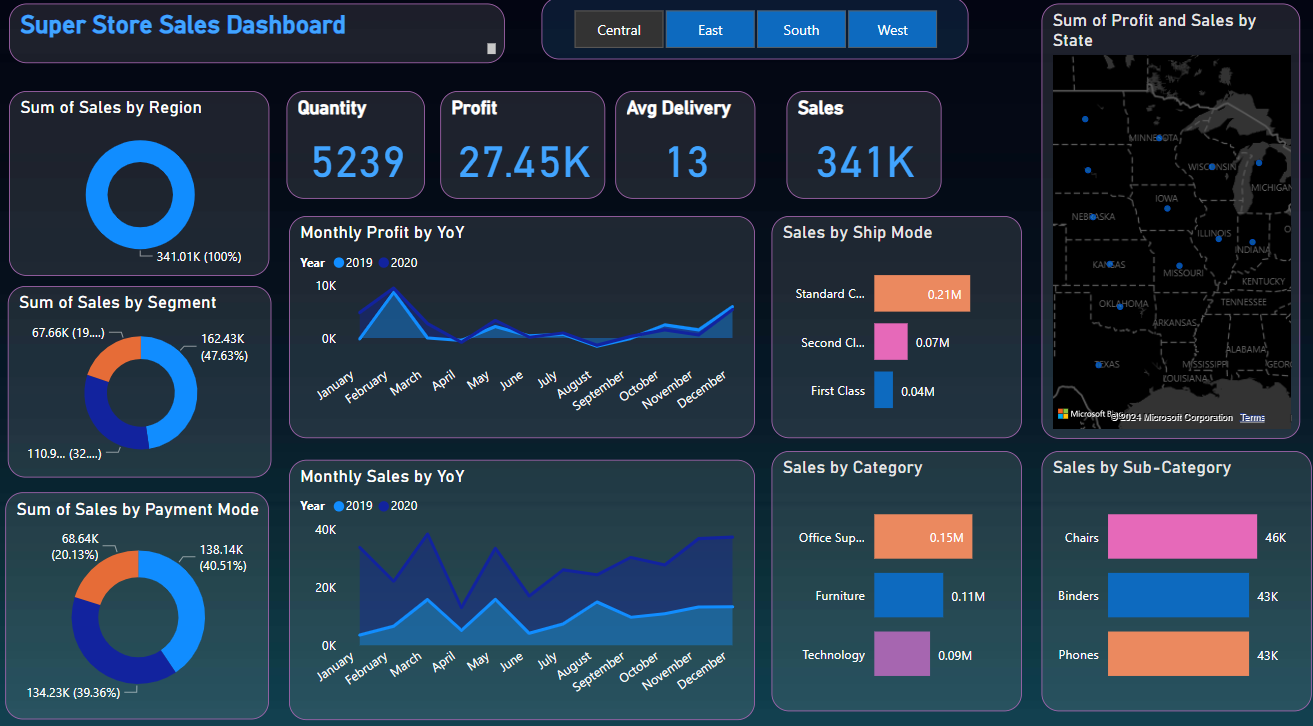

The dashboard page shown, as its layout file describes it:
{"tool":"powerbi","page":{"name":"Page 1","canvas":[1280,720],"ordinal":0},"visuals":[{"type":"clusteredBarChart","title":"Sales by Category","fields":{"Category":["SuperStore_Sales_Dataset.Category"],"Y":["Sum(SuperStore_Sales_Dataset.Sales)"]},"box":[750.2,448.6,241.2,250.9],"z":0},{"type":"clusteredBarChart","title":"Sales by Sub-Category","fields":{"Category":["SuperStore_Sales_Dataset.Sub-Category"],"Y":["Sum(SuperStore_Sales_Dataset.Sales)"]},"box":[1010.7,448.6,260.5,250.9],"z":1000},{"type":"clusteredBarChart","title":"Sales by Ship Mode","fields":{"Category":["SuperStore_Sales_Dataset.Ship Mode"],"Y":["Sum(SuperStore_Sales_Dataset.Sales)"]},"box":[750.2,221.9,241.2,214.7],"z":2000},{"type":"stackedAreaChart","title":"Monthly Sales by YoY","fields":{"Y":["Sum(SuperStore_Sales_Dataset.Sales)"],"Category":["SuperStore_Sales_Dataset.Order Date.Variation.Date Hierarchy.Month","SuperStore_Sales_Dataset.Order Date.Variation.Date Hierarchy.Day"],"Series":["SuperStore_Sales_Dataset.Order Date.Variation.Date Hierarchy.Year"]},"box":[284.6,457.1,449.8,250.9],"z":3000},{"type":"stackedAreaChart","title":"Monthly Profit by YoY","fields":{"Category":["SuperStore_Sales_Dataset.Order Date.Variation.Date Hierarchy.Month","SuperStore_Sales_Dataset.Order Date.Variation.Date Hierarchy.Day"],"Series":["SuperStore_Sales_Dataset.Order Date.Variation.Date Hierarchy.Year"],"Y":["Sum(SuperStore_Sales_Dataset.Profit)"]},"box":[284.6,221.9,449.8,214.7],"z":4000},{"type":"map","title":"Sum of Profit and Sales by State","fields":{"Category":["SuperStore_Sales_Dataset.State"]},"box":[1010.7,16.9,249.6,419.7],"z":5000},{"type":"donutChart","fields":{"Category":["SuperStore_Sales_Dataset.Segment"],"Y":["Sum(SuperStore_Sales_Dataset.Sales)"]},"box":[13.3,289.4,254.5,184.5],"z":6000},{"type":"donutChart","fields":{"Category":["SuperStore_Sales_Dataset.Payment Mode"],"Y":["Sum(SuperStore_Sales_Dataset.Sales)"]},"box":[10.9,488.4,254.5,219.5],"z":7000},{"type":"slicer","fields":{"Values":["SuperStore_Sales_Dataset.Region"]},"box":[528.3,11,411.7,60.4],"z":8000},{"type":"textbox","title":"Super Store Sales Dashboard","box":[14.5,16.9,478.8,57.9],"z":9000},{"type":"card","title":"Sales","fields":{"Values":["Sum(SuperStore_Sales_Dataset.Sales)"]},"box":[764.6,101.3,149.5,103.7],"z":10000},{"type":"card","title":"Quantity","fields":{"Values":["Sum(SuperStore_Sales_Dataset.Quantity)"]},"box":[282.2,101.3,133.9,103.7],"z":11000},{"type":"card","title":"Profit","fields":{"Values":["Sum(SuperStore_Sales_Dataset.Profit)"]},"box":[430.6,101.3,159.2,103.7],"z":12000},{"type":"card","title":"Avg Delivery","fields":{"Values":["Avg(SuperStore_Sales_Dataset.AvgDelivery)"]},"box":[599.4,101.3,135.1,103.7],"z":13000},{"type":"donutChart","fields":{"Y":["Sum(SuperStore_Sales_Dataset.Sales)"],"Category":["SuperStore_Sales_Dataset.Region"]},"box":[14.5,101.3,250.9,178.5],"z":13001}]}

Visuals, with their boxes in screenshot pixels (x1, y1, x2, y2), scaled from the page's 1280x720 canvas onto the 1313x726 screenshot:
"Sales by Category" clusteredBarChart: BBox(770, 452, 1017, 705)
"Sales by Sub-Category" clusteredBarChart: BBox(1037, 452, 1304, 705)
"Sales by Ship Mode" clusteredBarChart: BBox(770, 224, 1017, 440)
"Monthly Sales by YoY" stackedAreaChart: BBox(292, 461, 753, 714)
"Monthly Profit by YoY" stackedAreaChart: BBox(292, 224, 753, 440)
"Sum of Profit and Sales by State" map: BBox(1037, 17, 1293, 440)
donutChart - SuperStore_Sales_Dataset.Segment x Sum(SuperStore_Sales_Dataset.Sales): BBox(14, 292, 275, 478)
donutChart - SuperStore_Sales_Dataset.Payment Mode x Sum(SuperStore_Sales_Dataset.Sales): BBox(11, 492, 272, 714)
slicer - SuperStore_Sales_Dataset.Region: BBox(542, 11, 964, 72)
"Super Store Sales Dashboard" textbox: BBox(15, 17, 506, 75)
"Sales" card: BBox(784, 102, 938, 207)
"Quantity" card: BBox(289, 102, 427, 207)
"Profit" card: BBox(442, 102, 605, 207)
"Avg Delivery" card: BBox(615, 102, 753, 207)
donutChart - Sum(SuperStore_Sales_Dataset.Sales) x SuperStore_Sales_Dataset.Region: BBox(15, 102, 272, 282)
